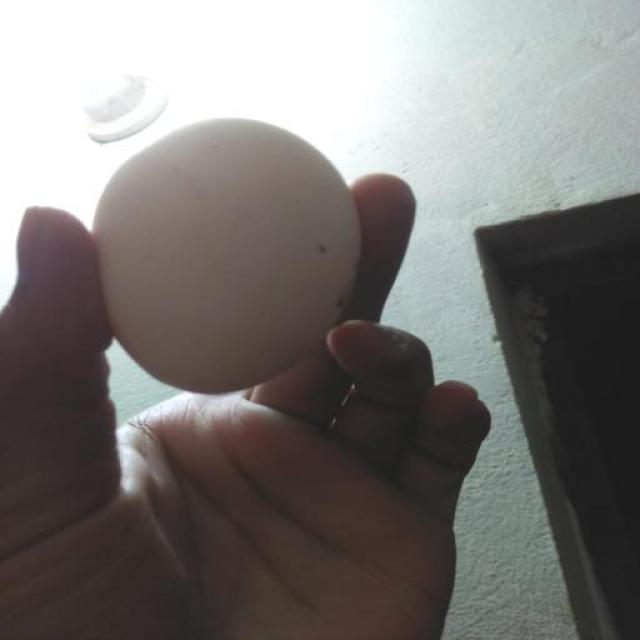telur: (94, 120, 364, 390)
